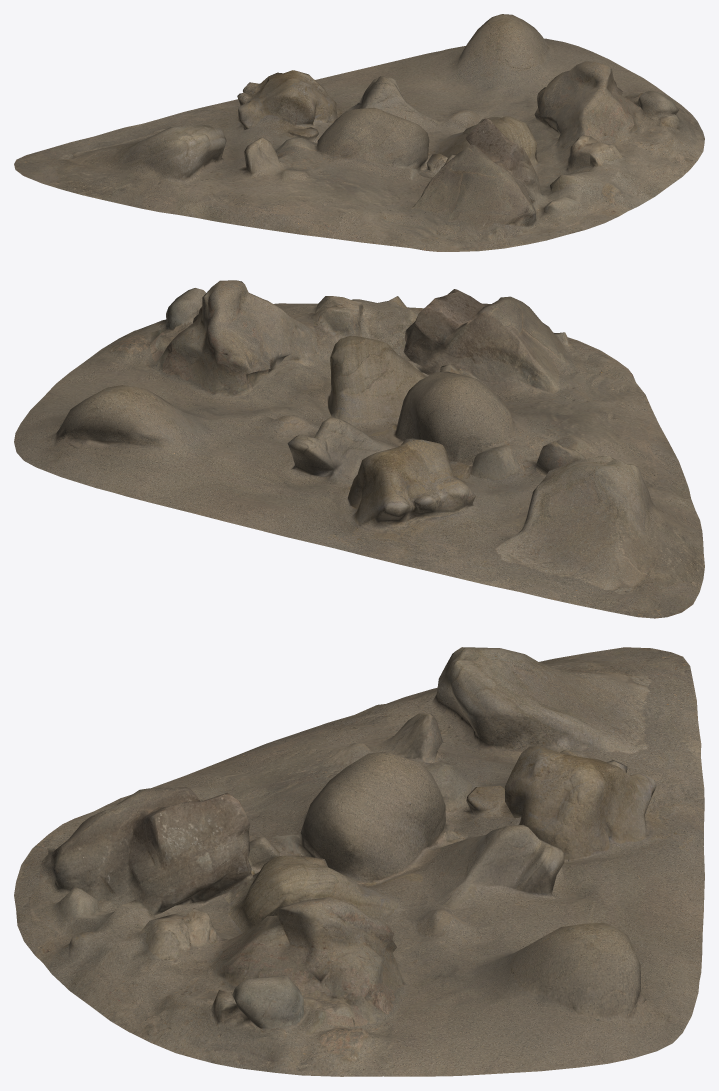
The model's file is vmiibed_tier_2.gltf.
The picture shows the model from 3 angles, top to bottom: view 1: azimuth 30°, elevation 25°; view 2: azimuth 150°, elevation 25°; view 3: azimuth 270°, elevation 25°; orthographic projection. The views are drawn at different scales.
Parts seen in each view (by area): view 1: vmiibed_LOD0_TIER2_000; view 2: vmiibed_LOD0_TIER2_000; view 3: vmiibed_LOD0_TIER2_000.
Boxes of the visible parts, box(x1,y1,x2,y2) form: vmiibed_LOD0_TIER2_000: box(14, 14, 704, 251); vmiibed_LOD0_TIER2_000: box(14, 280, 704, 618); vmiibed_LOD0_TIER2_000: box(14, 647, 704, 1076).
Bounding box in the file's own units: 2.98 × 0.3531 × 2.02.
Materials: 1 (1 with a texture image).
